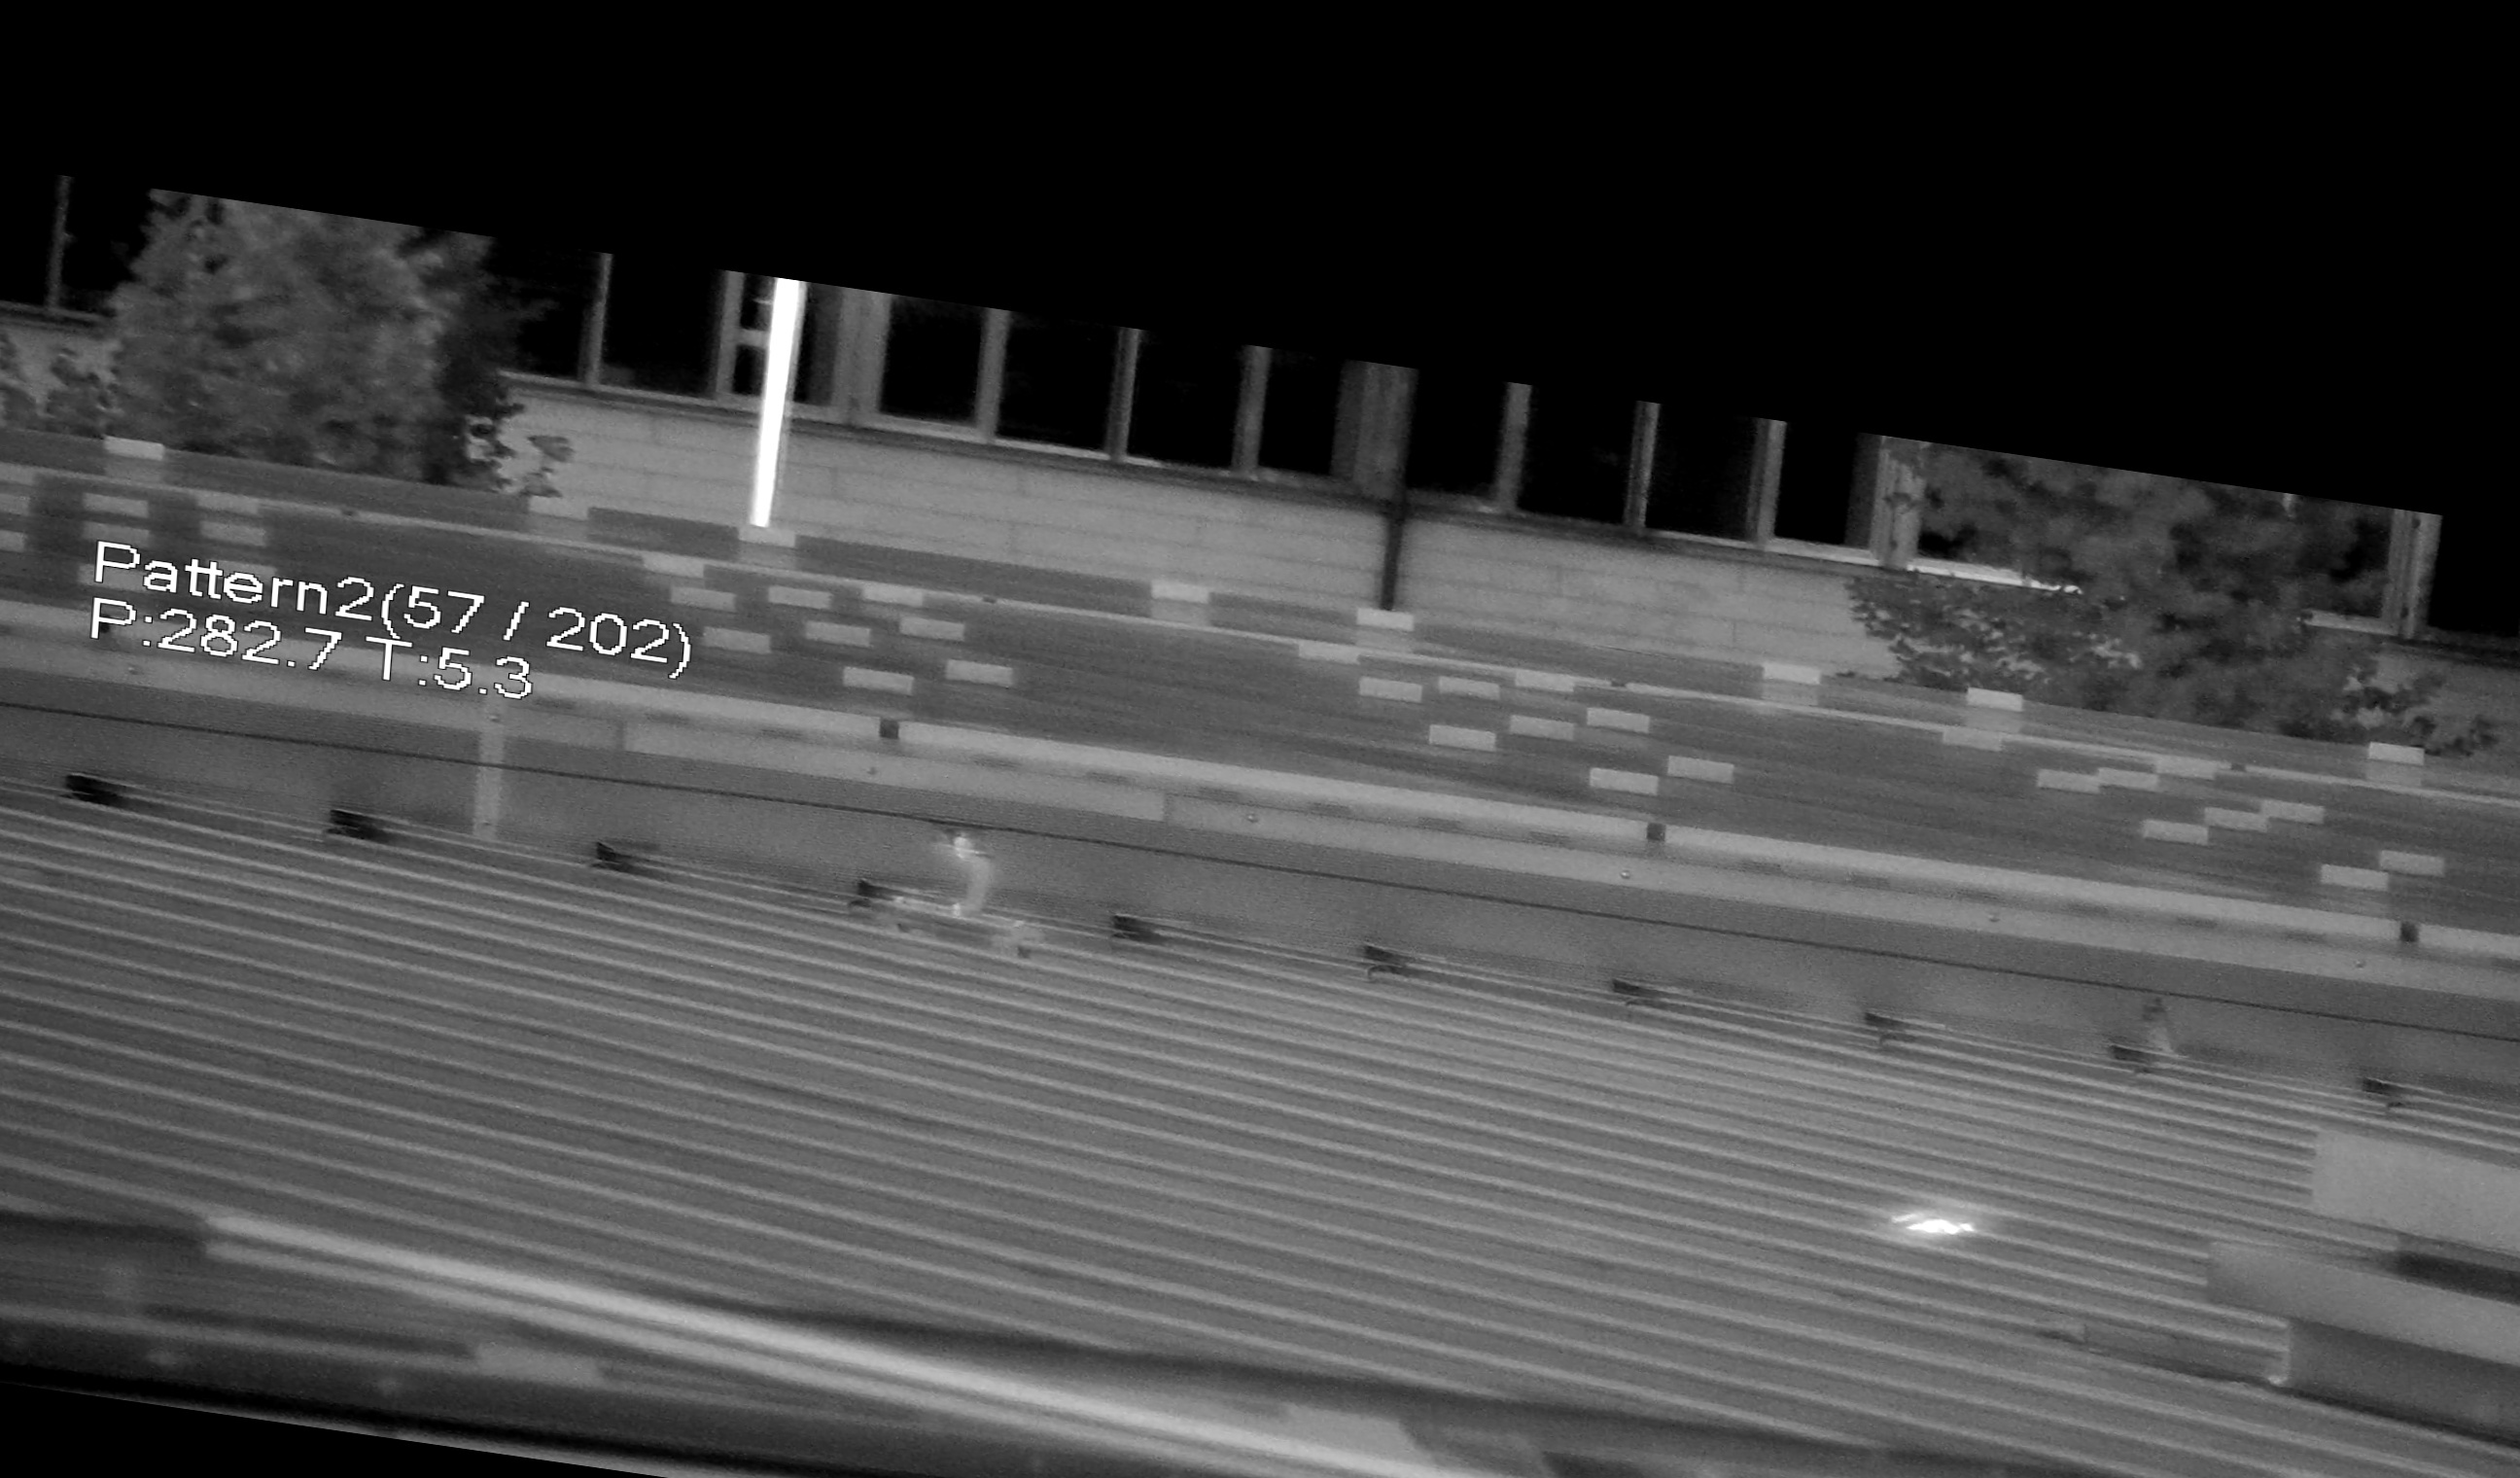Other: (2112, 980, 2212, 1082)
